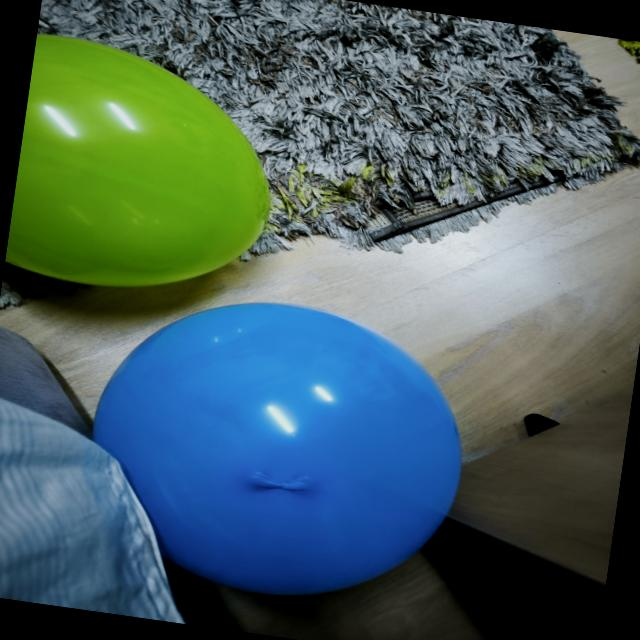balloon: (94, 304, 461, 595), (5, 35, 270, 286)
